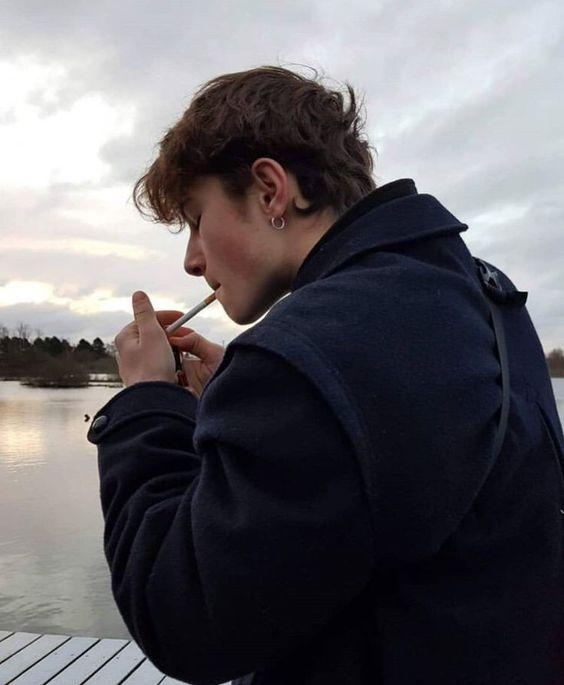cigarette: (166, 294, 215, 334)
